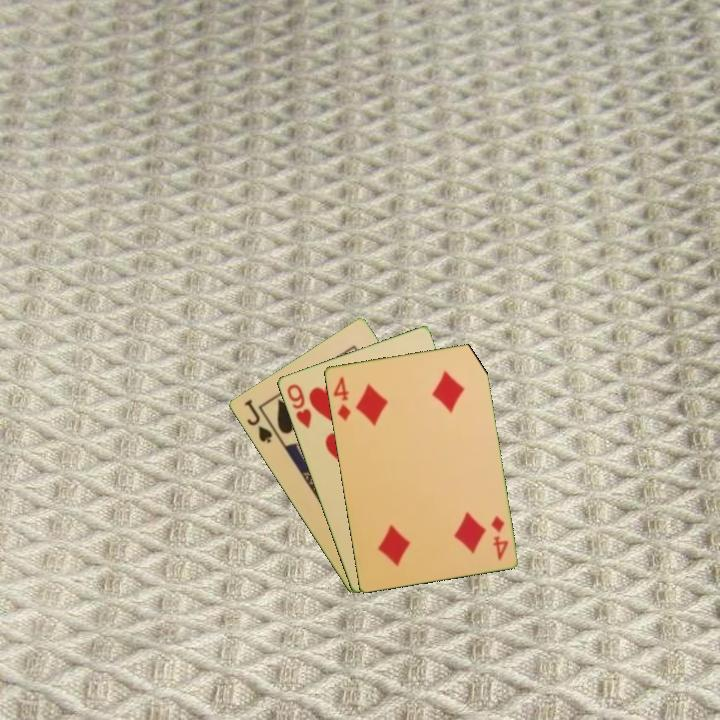4d: (329, 373, 353, 424), (488, 512, 511, 563)
9h: (283, 380, 314, 431)
Js: (240, 396, 275, 446)
